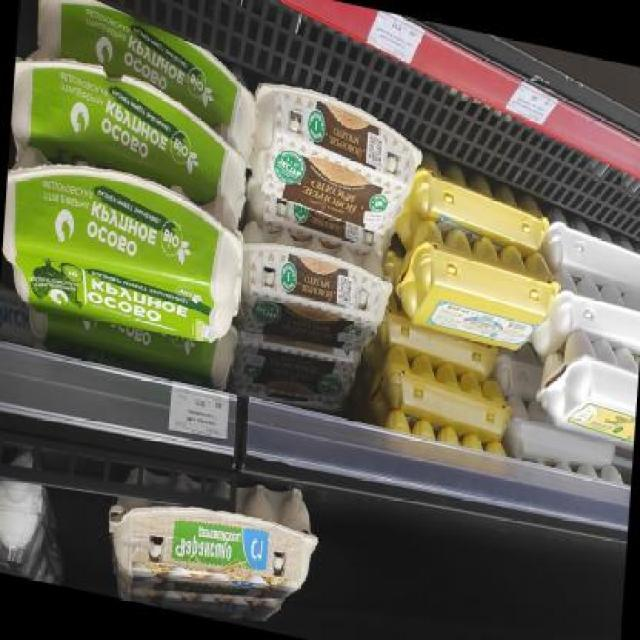egg: (0, 144, 246, 350), (106, 442, 322, 616), (10, 48, 248, 200), (249, 88, 426, 234), (236, 224, 395, 360)
